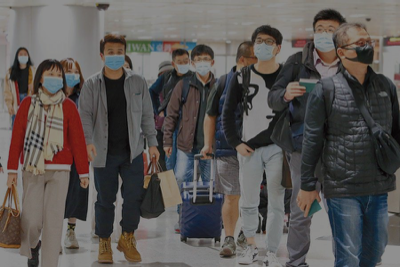with_mask: (314, 23, 339, 53), (253, 35, 278, 61), (354, 36, 375, 64), (41, 69, 64, 93), (104, 48, 127, 70), (62, 65, 80, 88), (195, 54, 212, 77), (175, 57, 191, 75), (16, 51, 30, 64)
